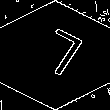L_SW: (25, 25, 85, 84)
